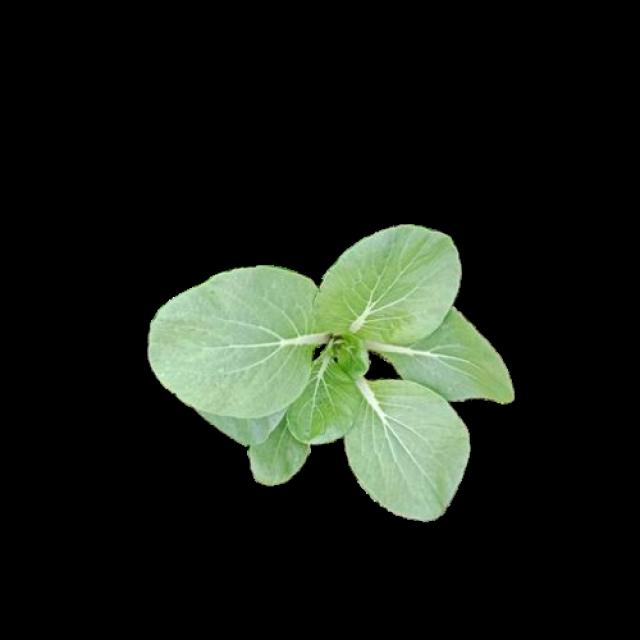healthy: (147, 222, 513, 517)
not-mature: (150, 224, 516, 520)
